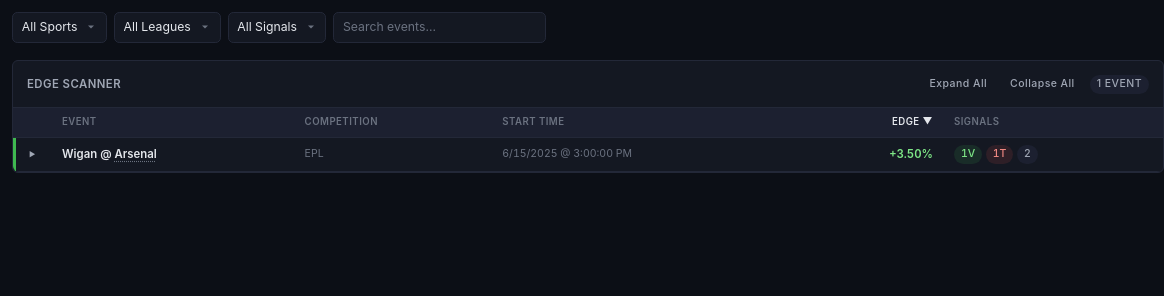
Test: DashboardPage › expander button has aria-expanded attribute
Click the button "▶" at (32, 155), box [24,146,41,164]
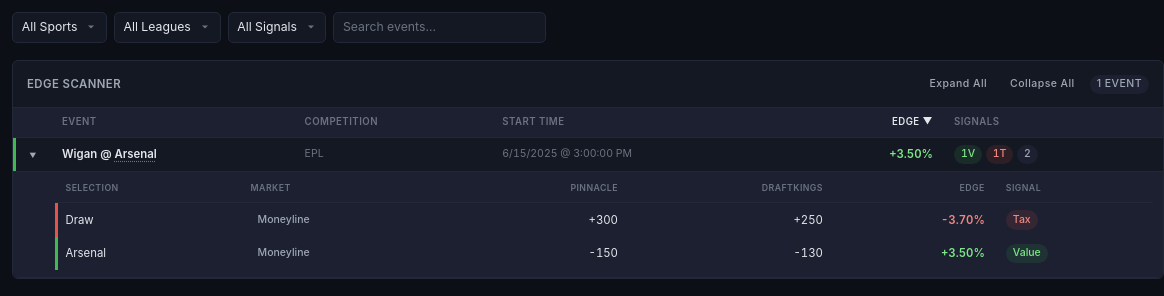
Check: the button "▶" is expanded, box [24,146,41,164]
